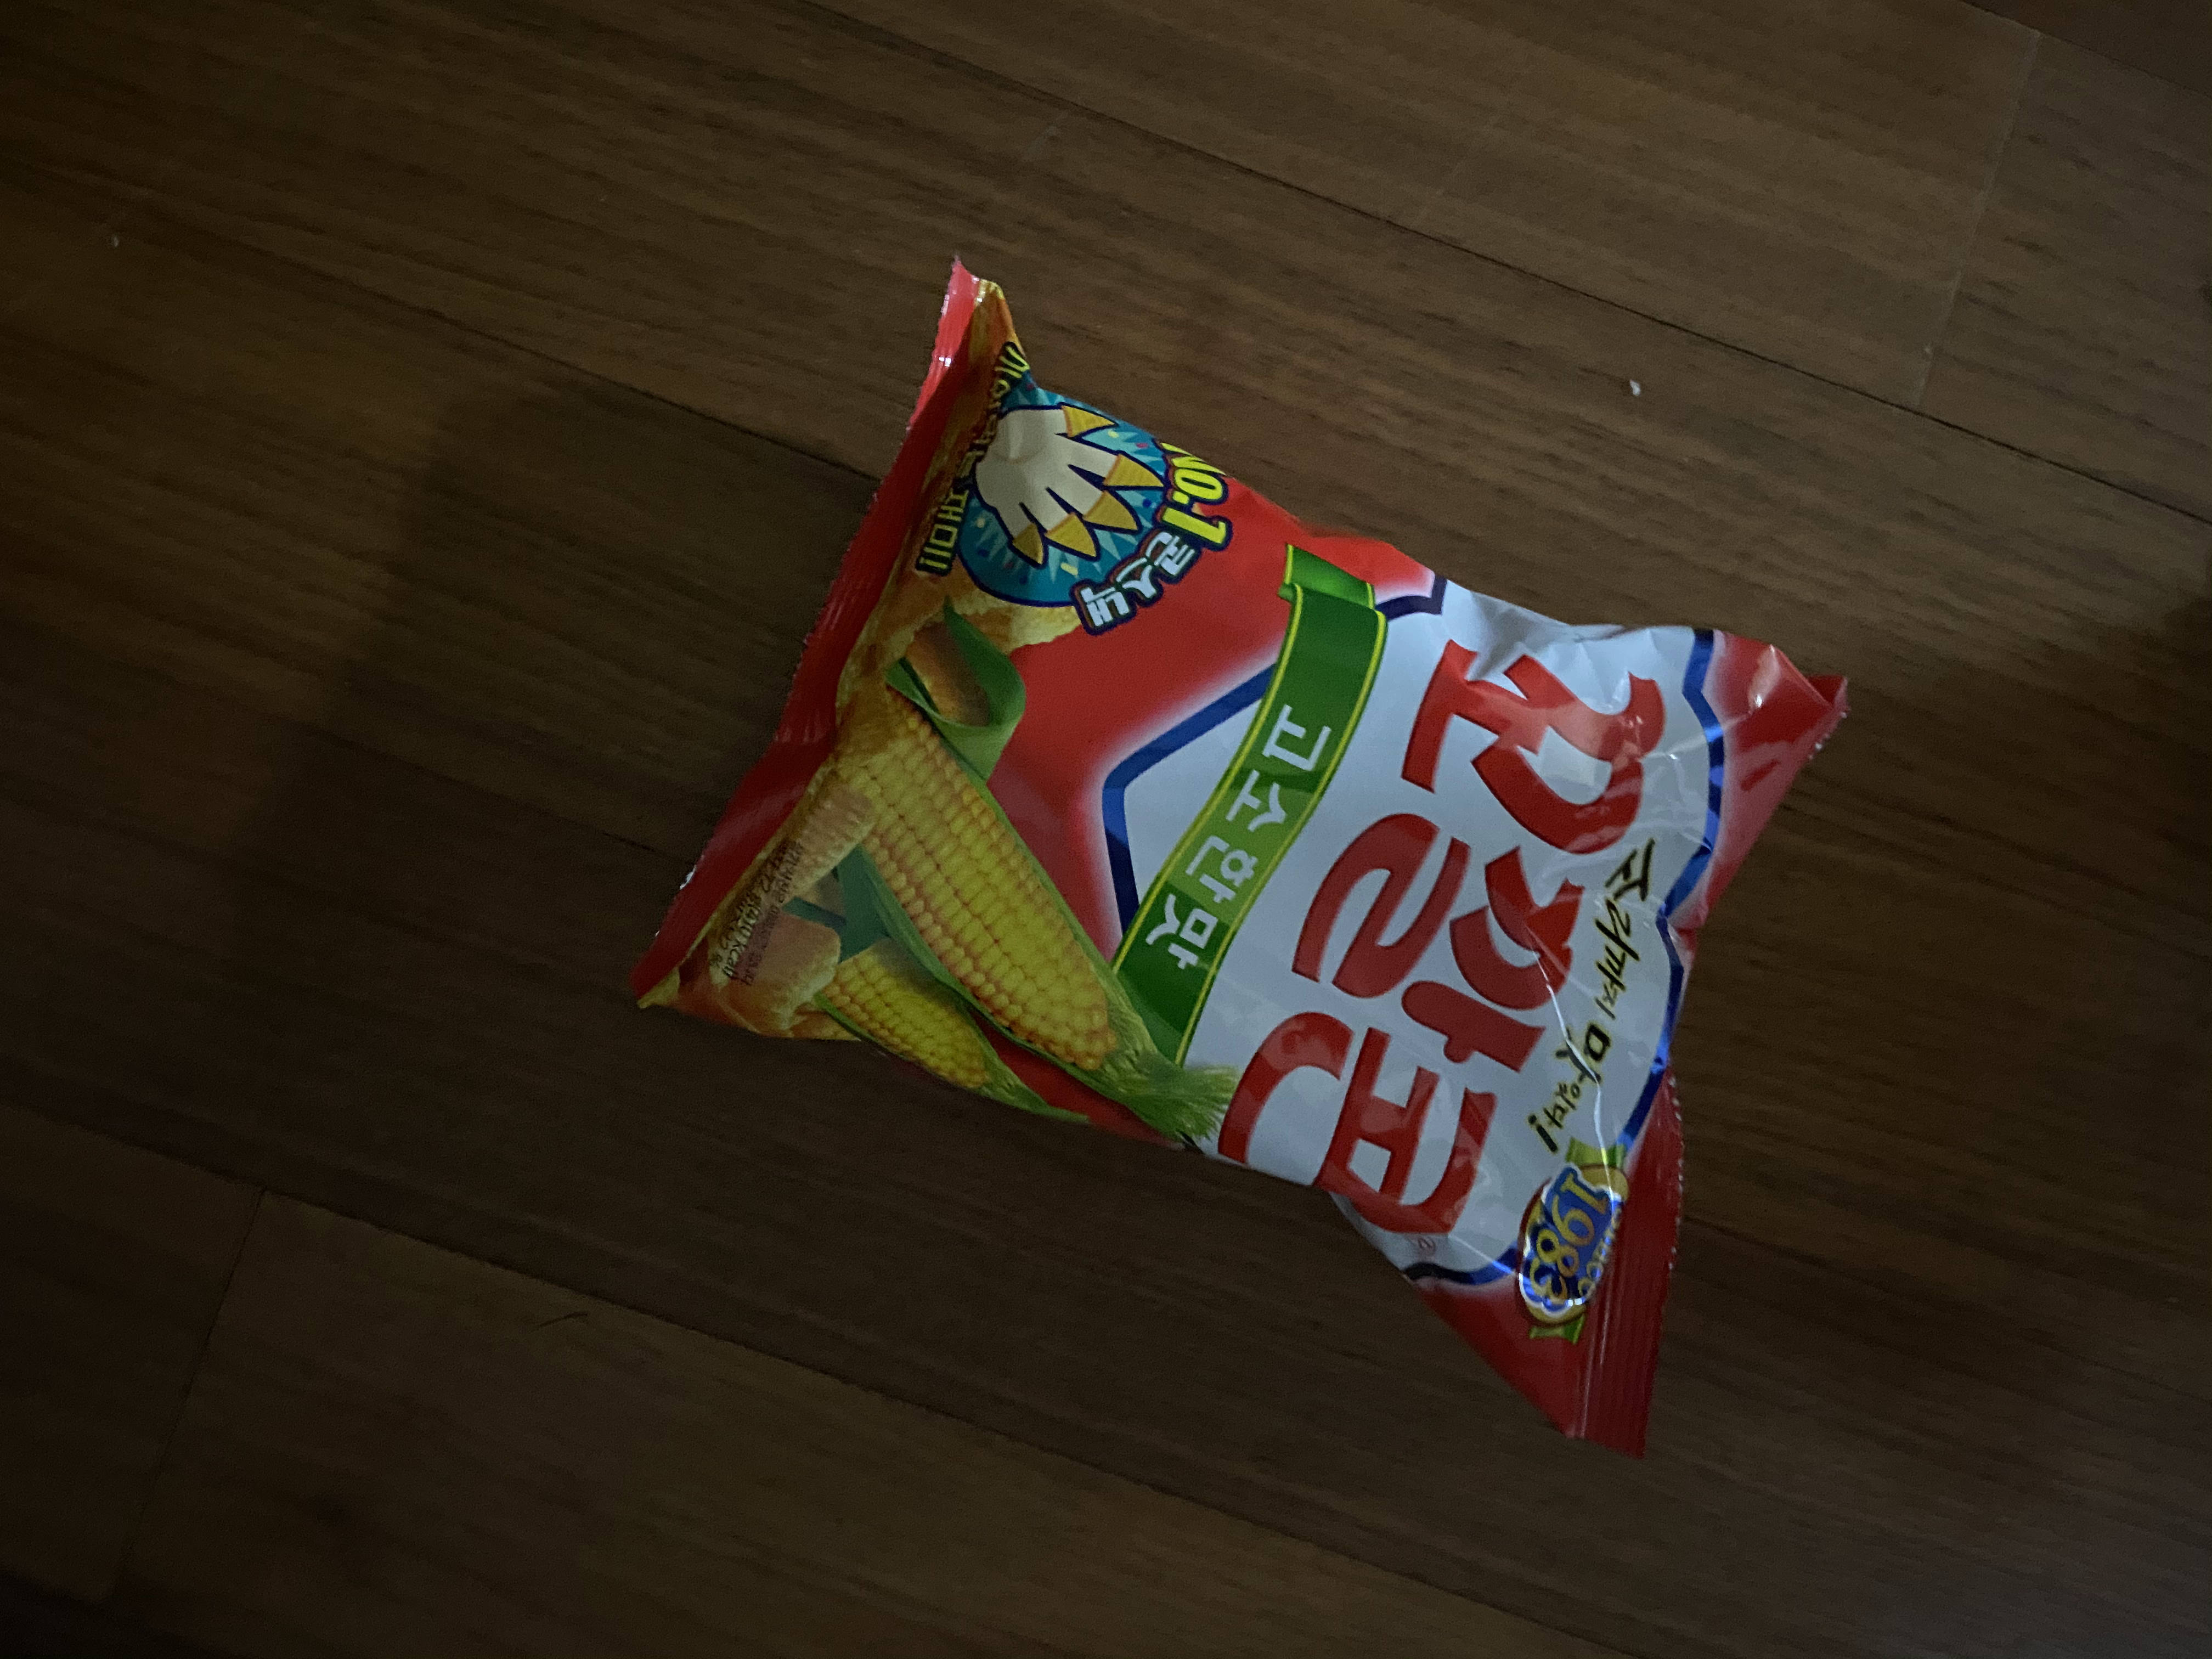ggoggalcon: (610, 223, 1890, 1481)
